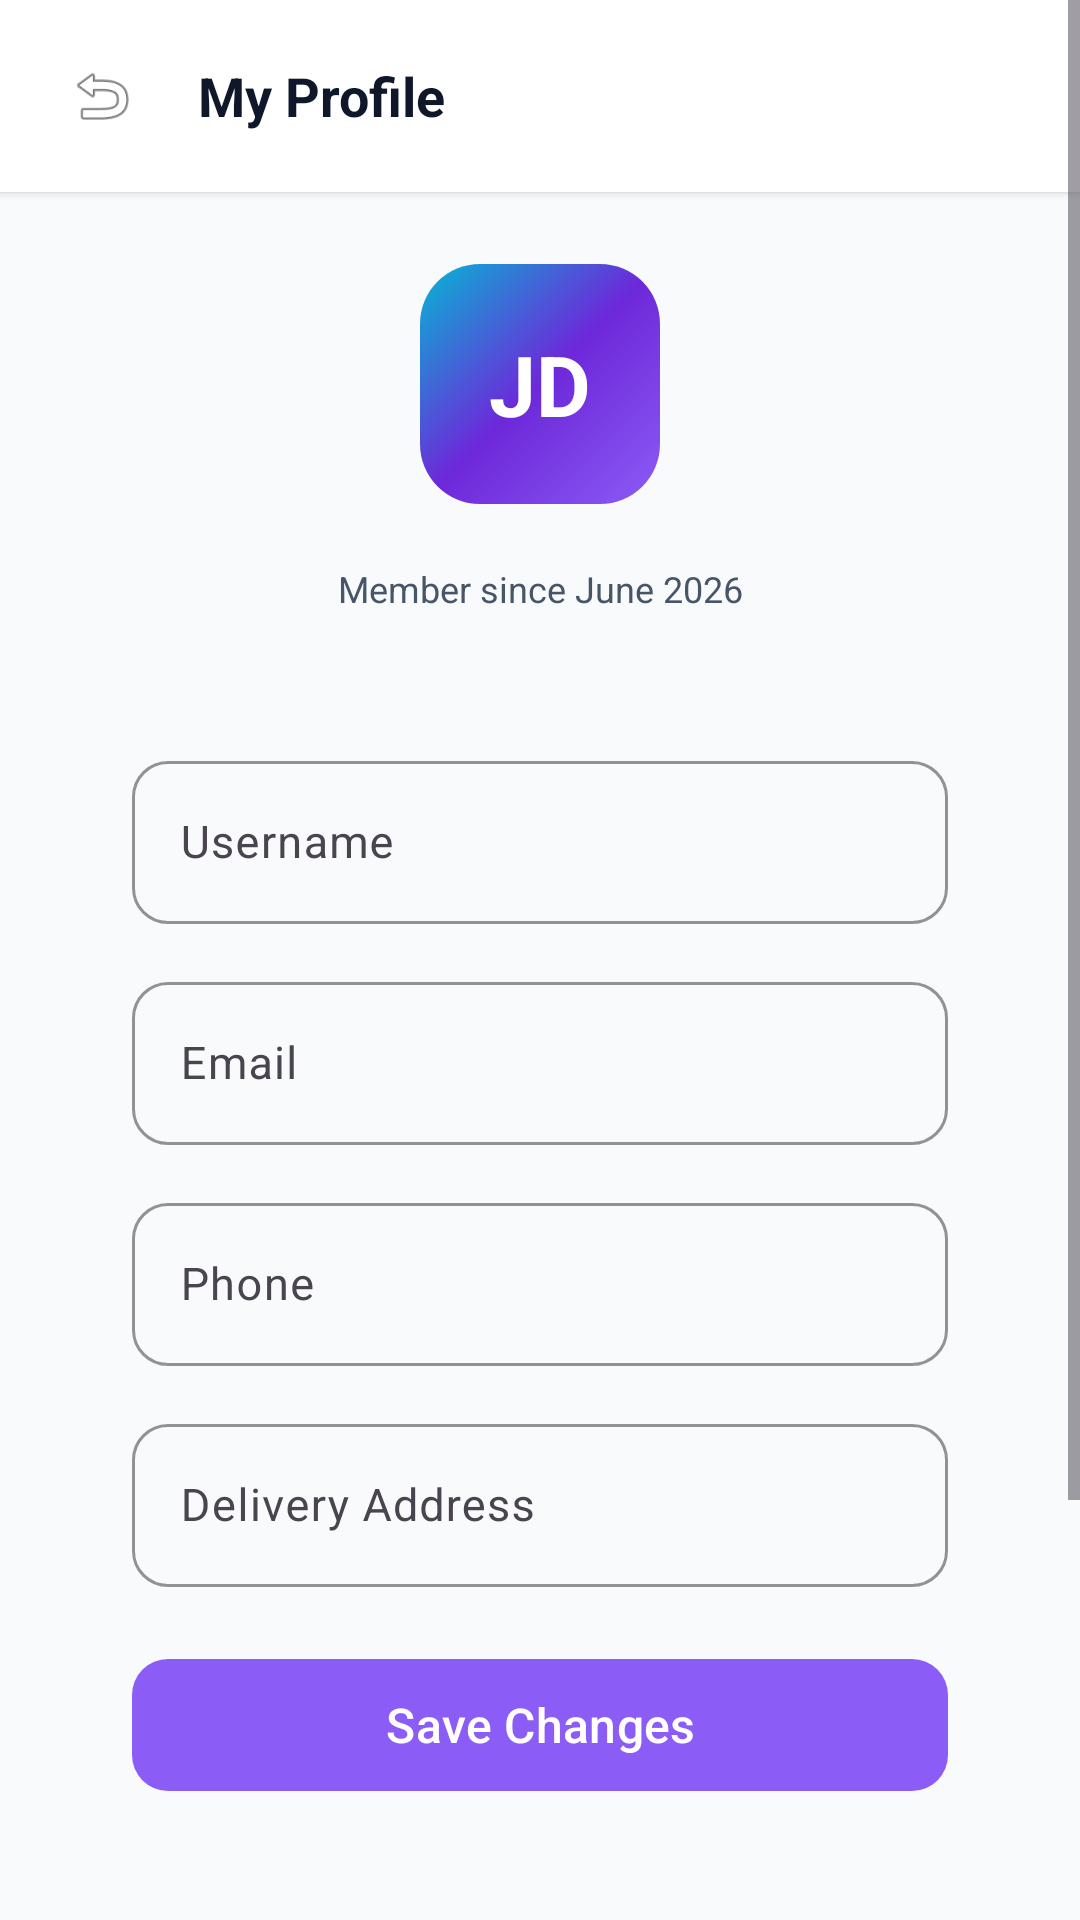

Icons on this 1080×1920 Android screen, each with its box as (x1, y1, x2, y2):
Back: (77, 73, 129, 120)
